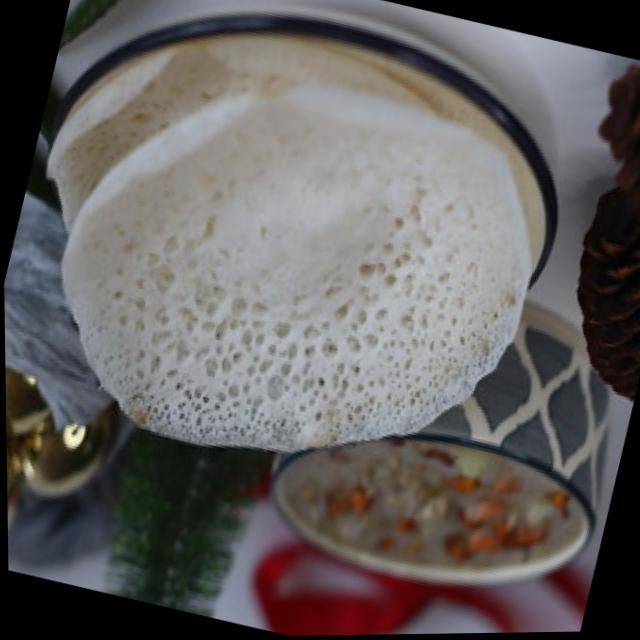AAPAM: (49, 34, 545, 452)
CURRY: (274, 439, 594, 581)
